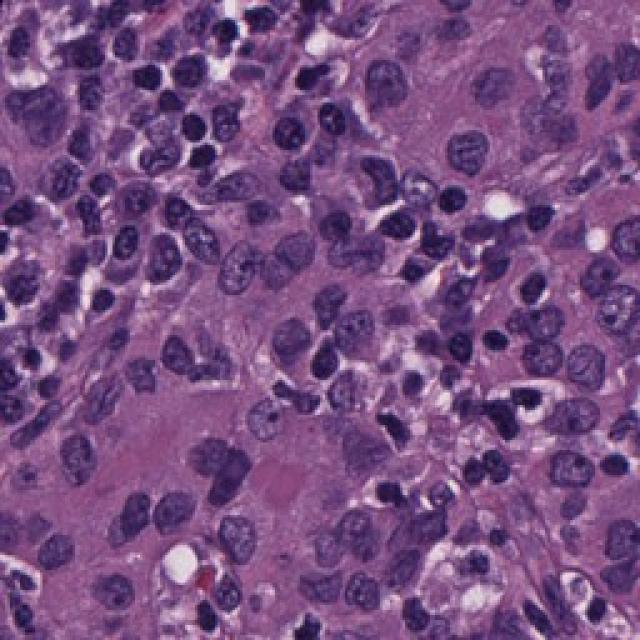abnormal: (514, 358, 618, 441), (443, 51, 537, 128), (577, 485, 640, 582), (199, 239, 274, 311), (437, 110, 504, 188), (530, 428, 593, 508), (233, 395, 301, 464), (350, 51, 418, 116), (585, 270, 640, 348), (205, 503, 265, 574), (553, 439, 607, 509), (556, 343, 612, 397)
